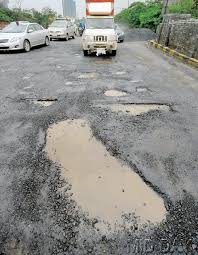pothole: (31, 110, 177, 251), (97, 85, 181, 126)
